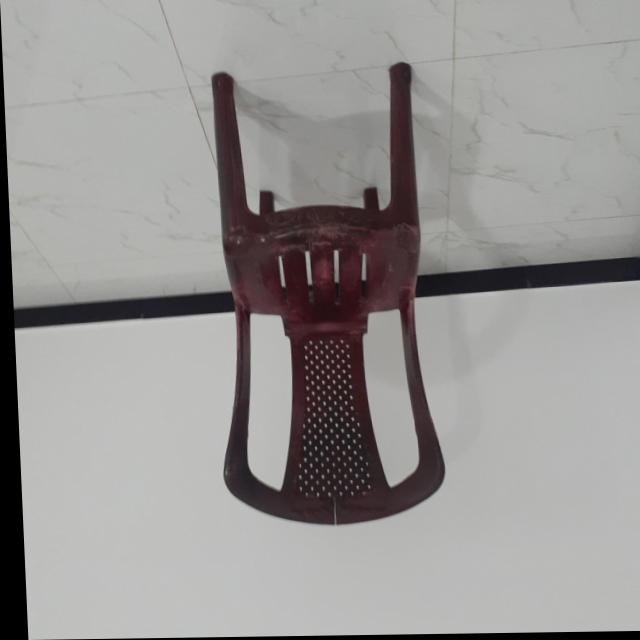Chair: (201, 61, 443, 528)
